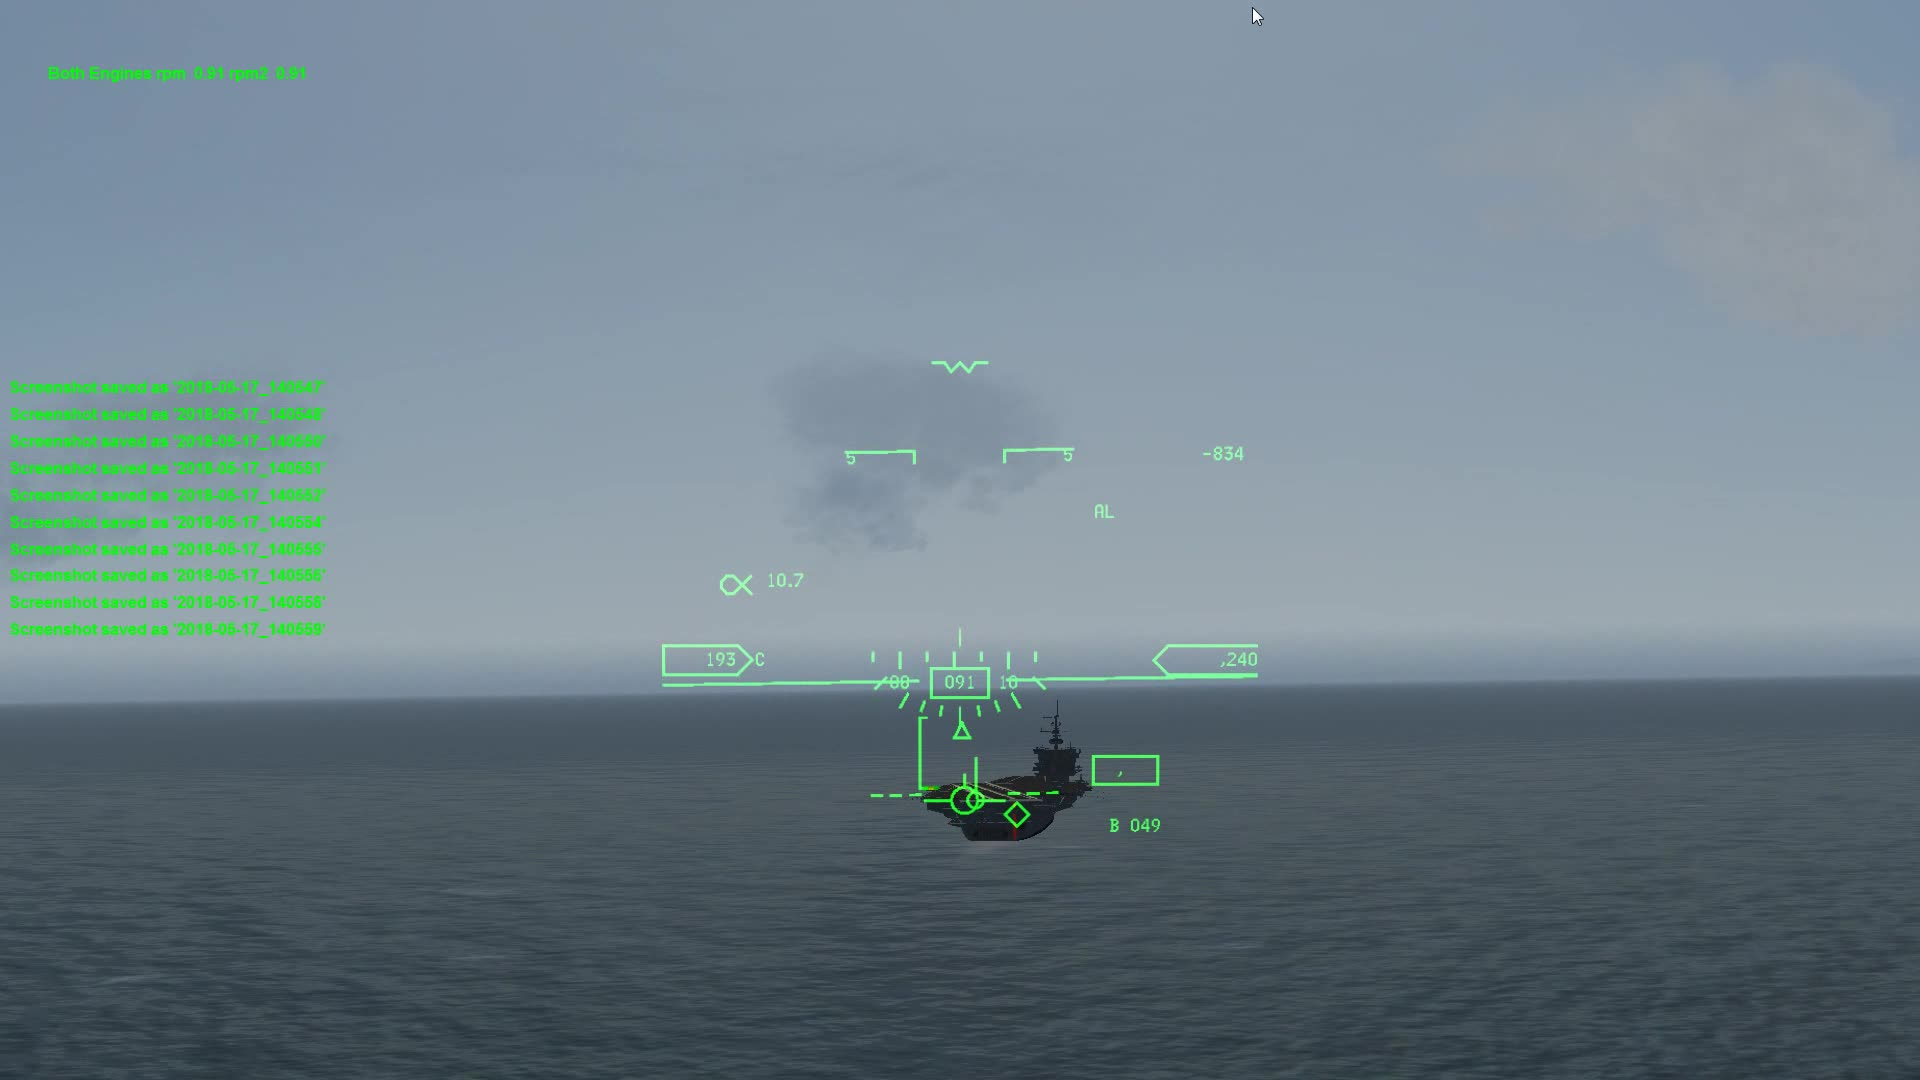speed vector: (916, 766, 1005, 816)
